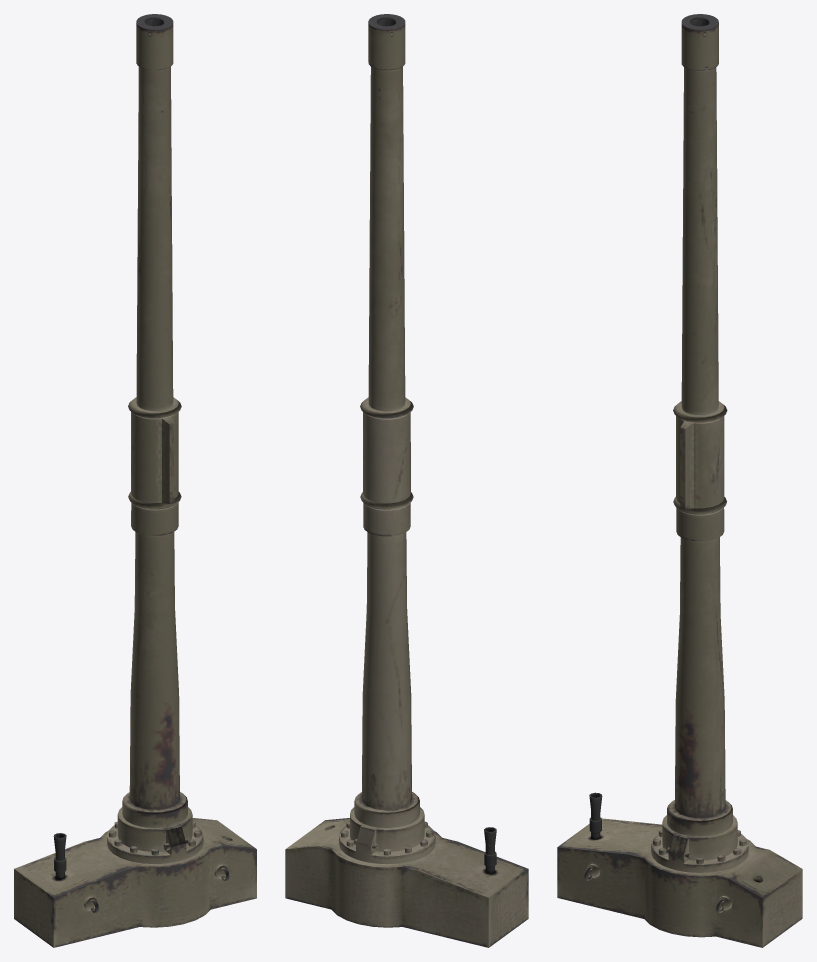
The model's file is Gun_04.glb.
The picture shows the model from 3 angles, left to right: view 1: azimuth 30°, elevation 25°; view 2: azimuth 150°, elevation 25°; view 3: azimuth 330°, elevation 25°; orthographic projection.
Visible parts, largest first — view 1: set_0_group_0; view 2: set_0_group_0; view 3: set_0_group_0.
Part boxes in pixels (x1,y1,x2,y2): set_0_group_0: (14, 14, 256, 947); set_0_group_0: (285, 14, 528, 947); set_0_group_0: (557, 14, 802, 947).
Size of the model in its own units: 1.04 by 4.31 by 0.4985.
1 material, 1 textured.
